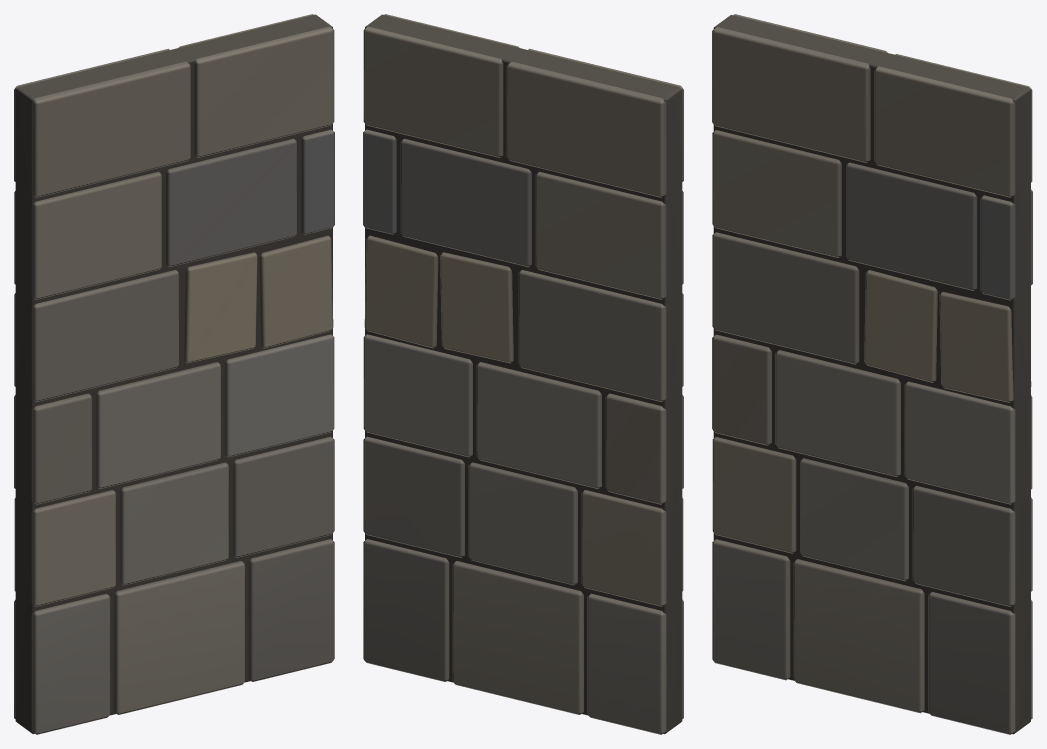
Rendered from ashlar-wall-cracked.glb.
3 renders of one model, left to right at view 1: azimuth 30°, elevation 25°; view 2: azimuth 150°, elevation 25°; view 3: azimuth 330°, elevation 25°, orthographic.
Parts seen in each view (by area): view 1: body; view 2: body; view 3: body.
Part boxes in pixels (x1=…): body: x1=14, y1=14, x2=334, y2=734; body: x1=363, y1=14, x2=683, y2=734; body: x1=712, y1=14, x2=1032, y2=734.
Size of what is drawn, in the model's own units: 0.99 by 1.99 by 0.1319.
